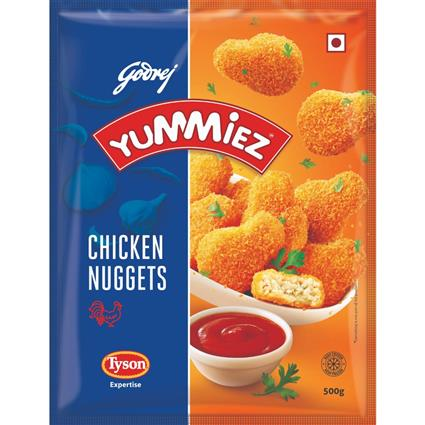nonveg_red: (326, 32, 346, 52)
